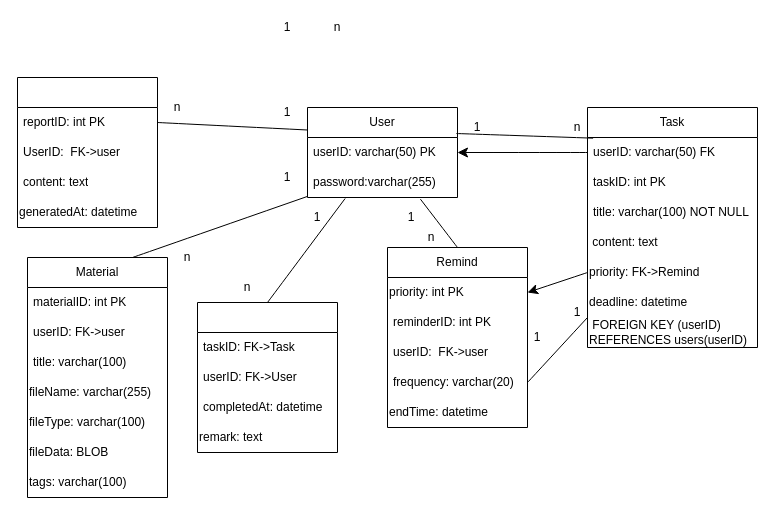
Image size: 775x515. Some labels were removed from this diagram. Here are the shapes that lost their labels. From the top down, the box of each, then its label:
(16, 76, 158, 228): AI
(196, 302, 338, 452): TaskCompletion
